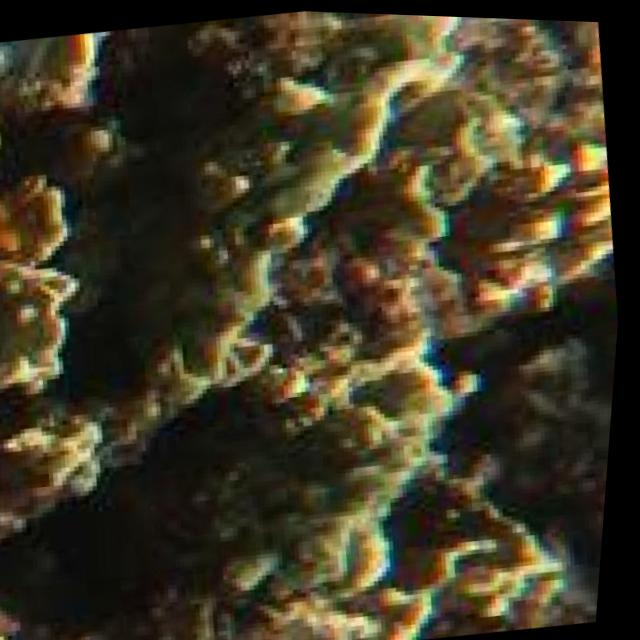Bleached Coral: (143, 41, 398, 381), (237, 406, 467, 627), (371, 71, 570, 243)
